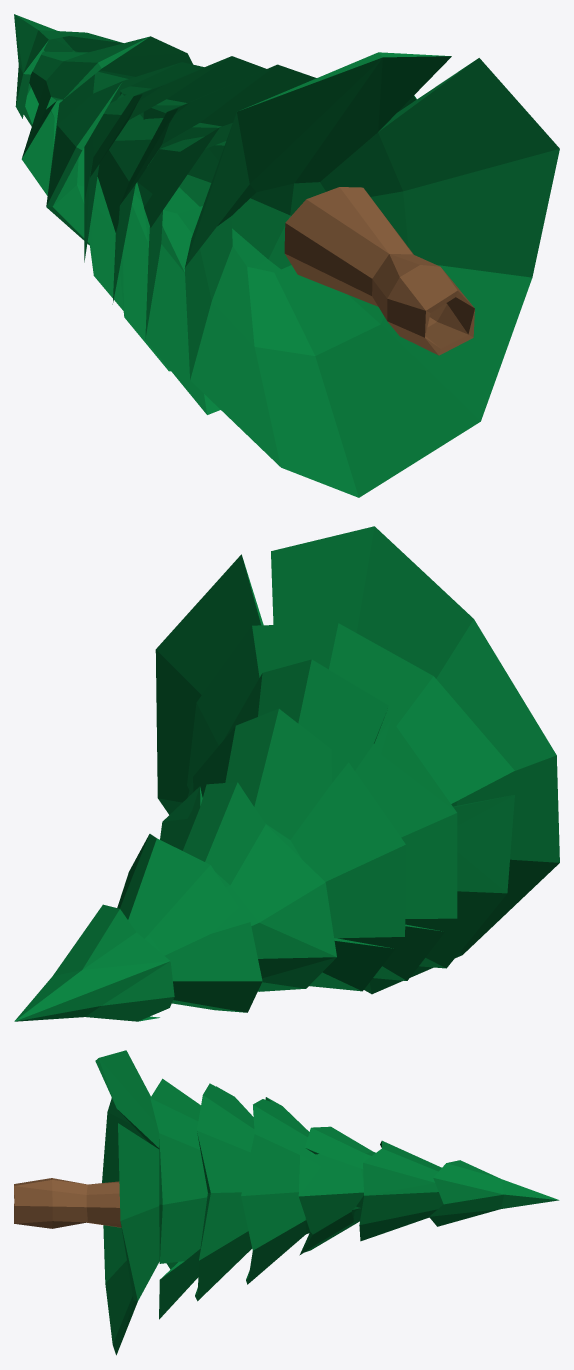
The model's file is Tree03.fbx.
The picture shows the model from 3 angles, top to bottom: view 1: azimuth 30°, elevation 25°; view 2: azimuth 150°, elevation 25°; view 3: azimuth 270°, elevation 25°; orthographic projection. The views are drawn at different scales.
Parts seen in each view (by area): view 1: Circle.004; view 2: Circle.004; view 3: Circle.004.
Part boxes in pixels (x1,y1,x2,y2): Circle.004: (14,14,559,497); Circle.004: (14,526,559,1021); Circle.004: (14,1050,559,1355).
Size of the model in its own units: 171 by 192 by 328.
